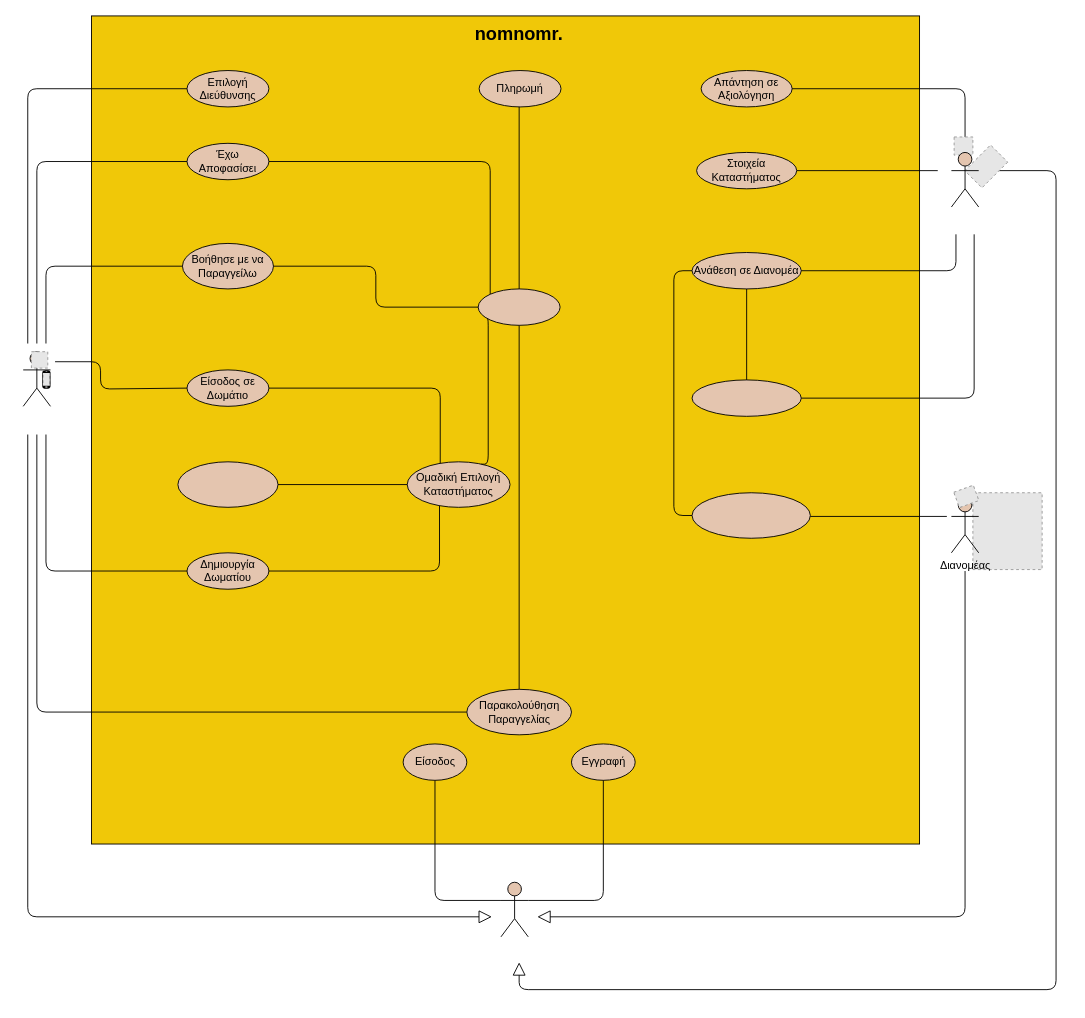
The diagram is 1085 pixels wide and 1018 high, and some of its shapes have lost their labels. Grey dashed boxes stand in for pictures. Here are the shapes that lost their labels. From the top down, the box of each, then its label:
(950, 152, 979, 207): Κατάστημα
(477, 288, 560, 325): Παραγγελία
(22, 351, 51, 406): Πελάτης
(691, 379, 801, 416): Ειδοποίηση Παραγγελίας
(177, 461, 278, 507): Ομαδική Επιλογή Κατηγορίας
(691, 492, 810, 538): Παραλαβή και Παράδοση Παραγγελιών
(500, 881, 528, 937): Χρήστες
